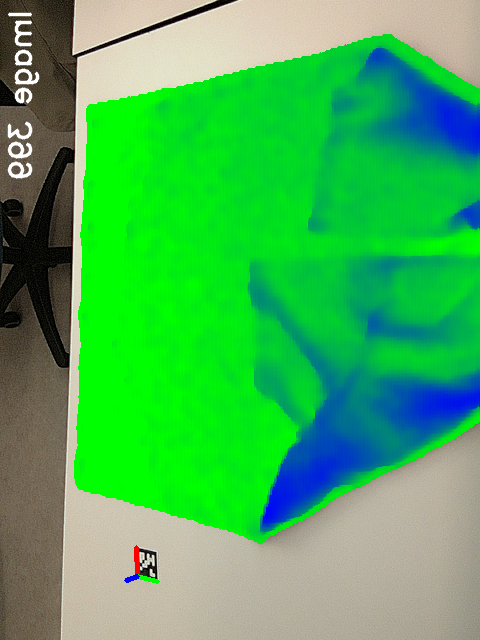V: (241, 352, 300, 398), (298, 195, 352, 245), (238, 249, 296, 294)
